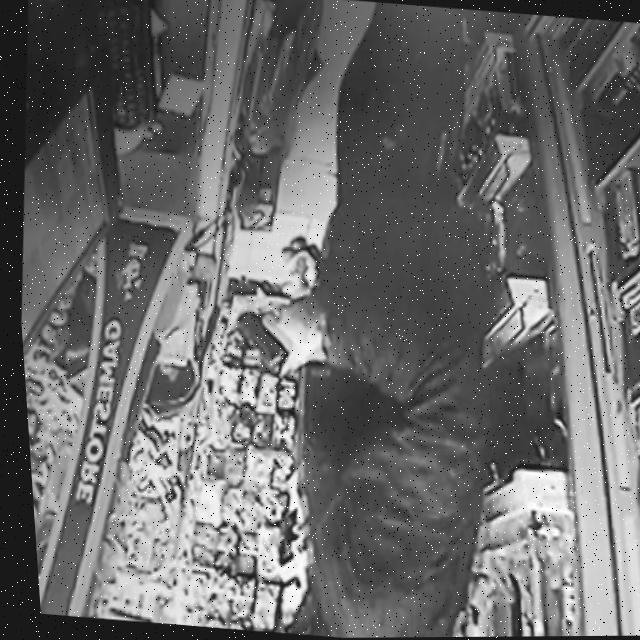pistol: (224, 305, 287, 374)
